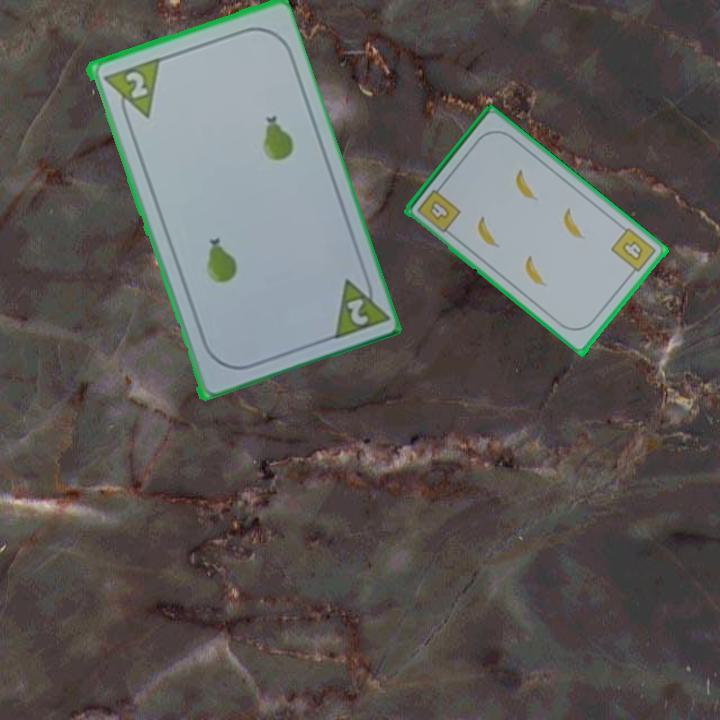2p: (121, 67, 150, 101), (342, 294, 371, 328)
4b: (608, 224, 659, 279), (414, 180, 464, 236)
